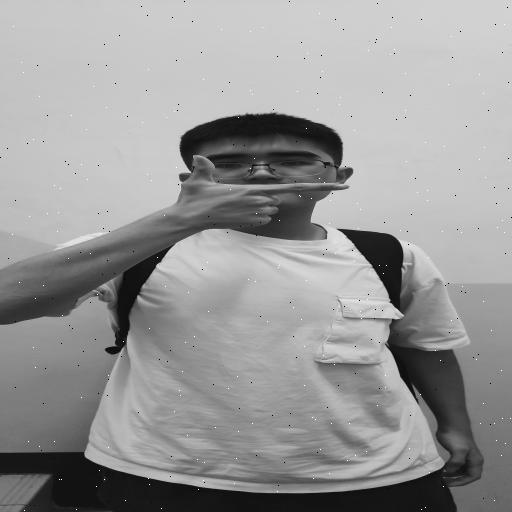next: (150, 150, 363, 240)
